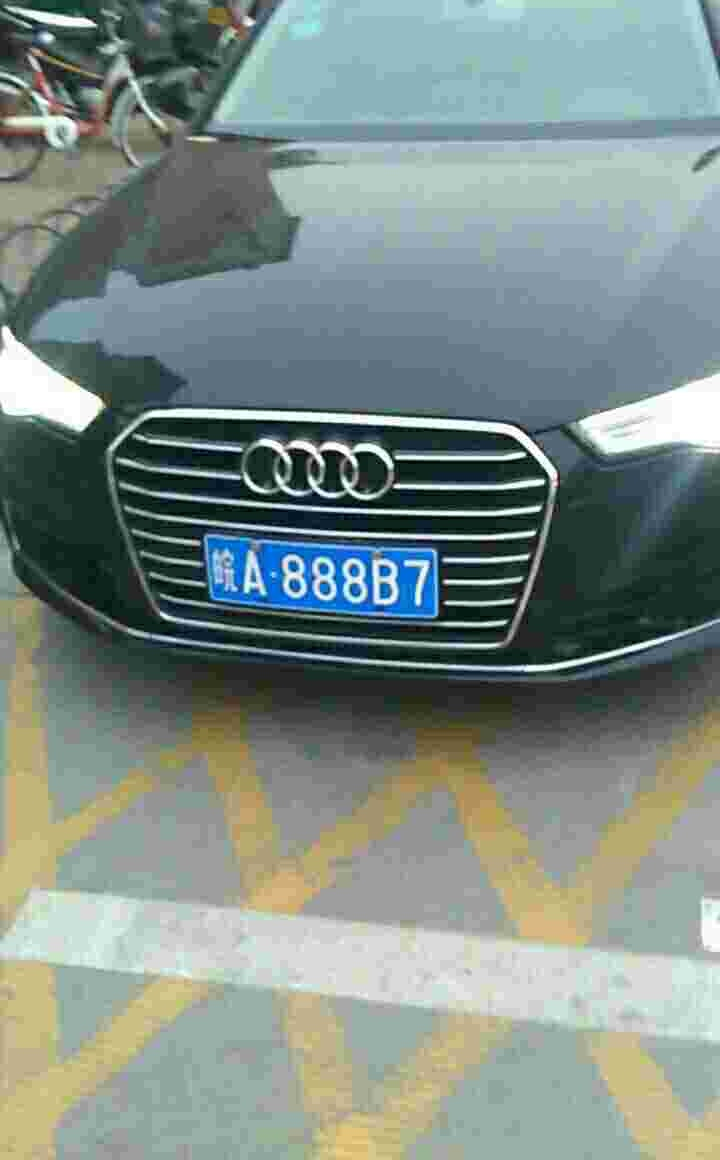license_plate: (203, 533, 445, 626)
